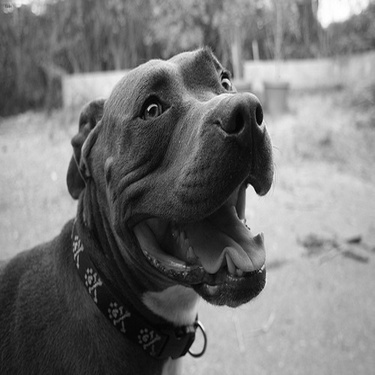dog: (3, 41, 278, 371)
